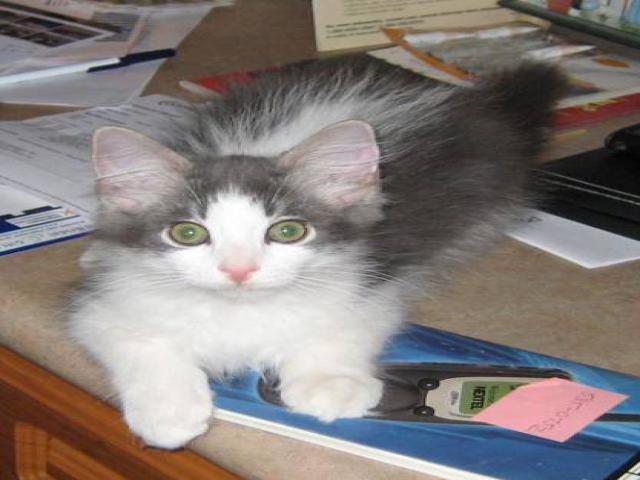cat: (69, 48, 567, 455)
